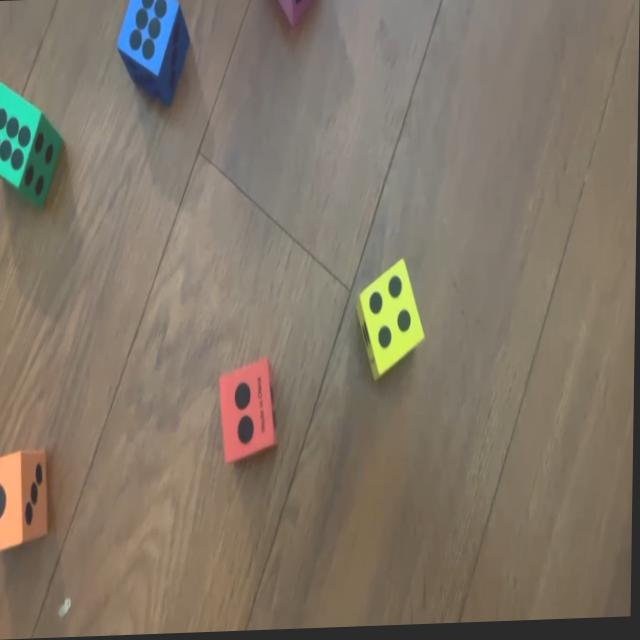cube: (0, 81, 67, 211), (116, 0, 188, 106), (217, 359, 282, 465)
